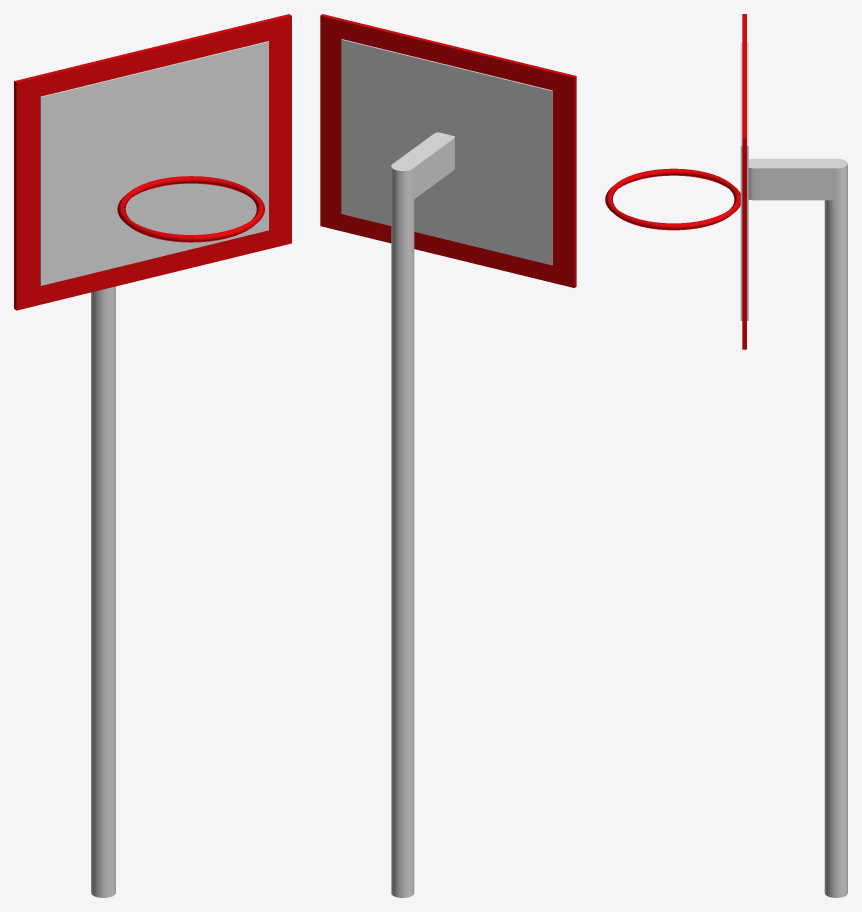
The model's file is basketballbasket.fbx.
The picture shows the model from 3 angles, left to right: view 1: azimuth 30°, elevation 25°; view 2: azimuth 150°, elevation 25°; view 3: azimuth 270°, elevation 25°; orthographic projection. The views are drawn at different scales.
Parts seen in each view (by area): view 1: Cube.010, Cube.009, Cylinder.003, BezierCircle; view 2: Cube.010, Cylinder.003, Cube.009; view 3: Cylinder.003, BezierCircle, Cube.009, Cube.010.
Part boxes in pixels (box(x1,y1,x2,y2)): Cube.010: box(40, 41, 268, 285); Cube.009: box(14, 14, 291, 310); Cylinder.003: box(91, 286, 115, 897); BezierCircle: box(117, 176, 264, 242); Cube.010: box(341, 39, 552, 265); Cylinder.003: box(391, 132, 454, 897); Cube.009: box(320, 14, 576, 287); Cylinder.003: box(748, 158, 847, 897); BezierCircle: box(605, 168, 740, 230); Cube.009: box(742, 14, 746, 349); Cube.010: box(740, 42, 748, 320).
Size of the model in its own units: 38.29 by 117 by 31.54.
